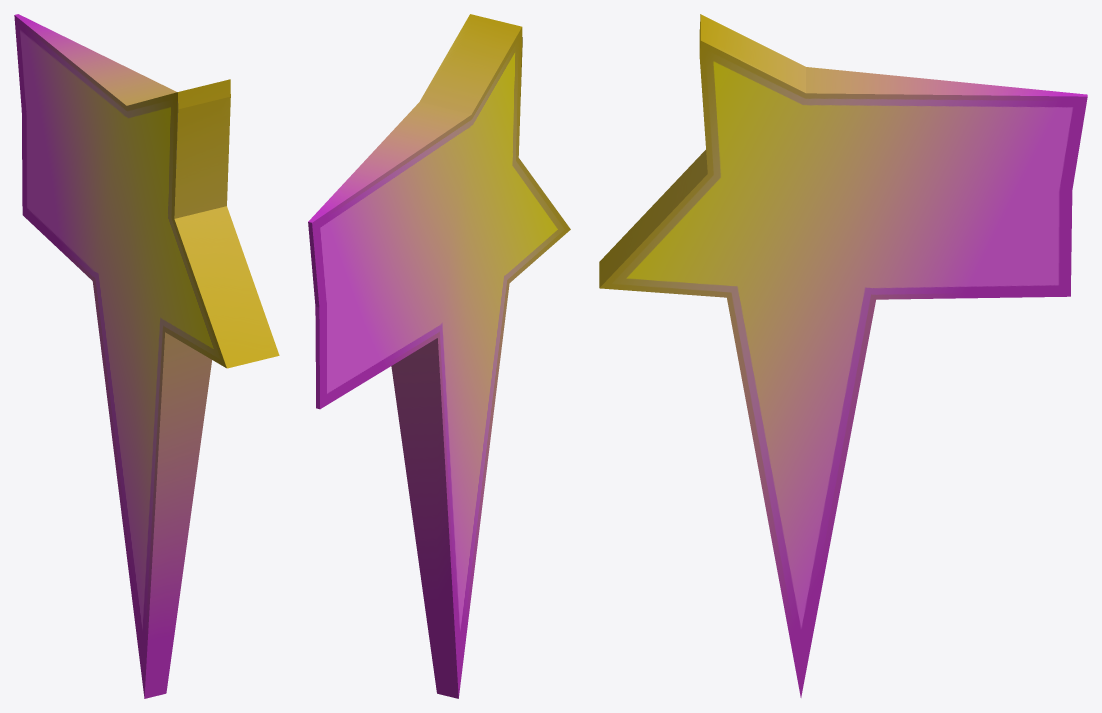
Rendered from staraxe 1.fbx.
The picture shows the model from 3 angles, left to right: view 1: azimuth 30°, elevation 25°; view 2: azimuth 150°, elevation 25°; view 3: azimuth 270°, elevation 25°; orthographic projection. The views are drawn at different scales.
Parts seen in each view (by area): view 1: staraxe; view 2: staraxe; view 3: staraxe.
Boxes of the visible parts, box(x1,y1,x2,y2) form: staraxe: box(14, 14, 279, 698); staraxe: box(308, 14, 570, 698); staraxe: box(599, 14, 1087, 697).
Size of the model in its own units: 8.41 by 98.76 by 65.62.
